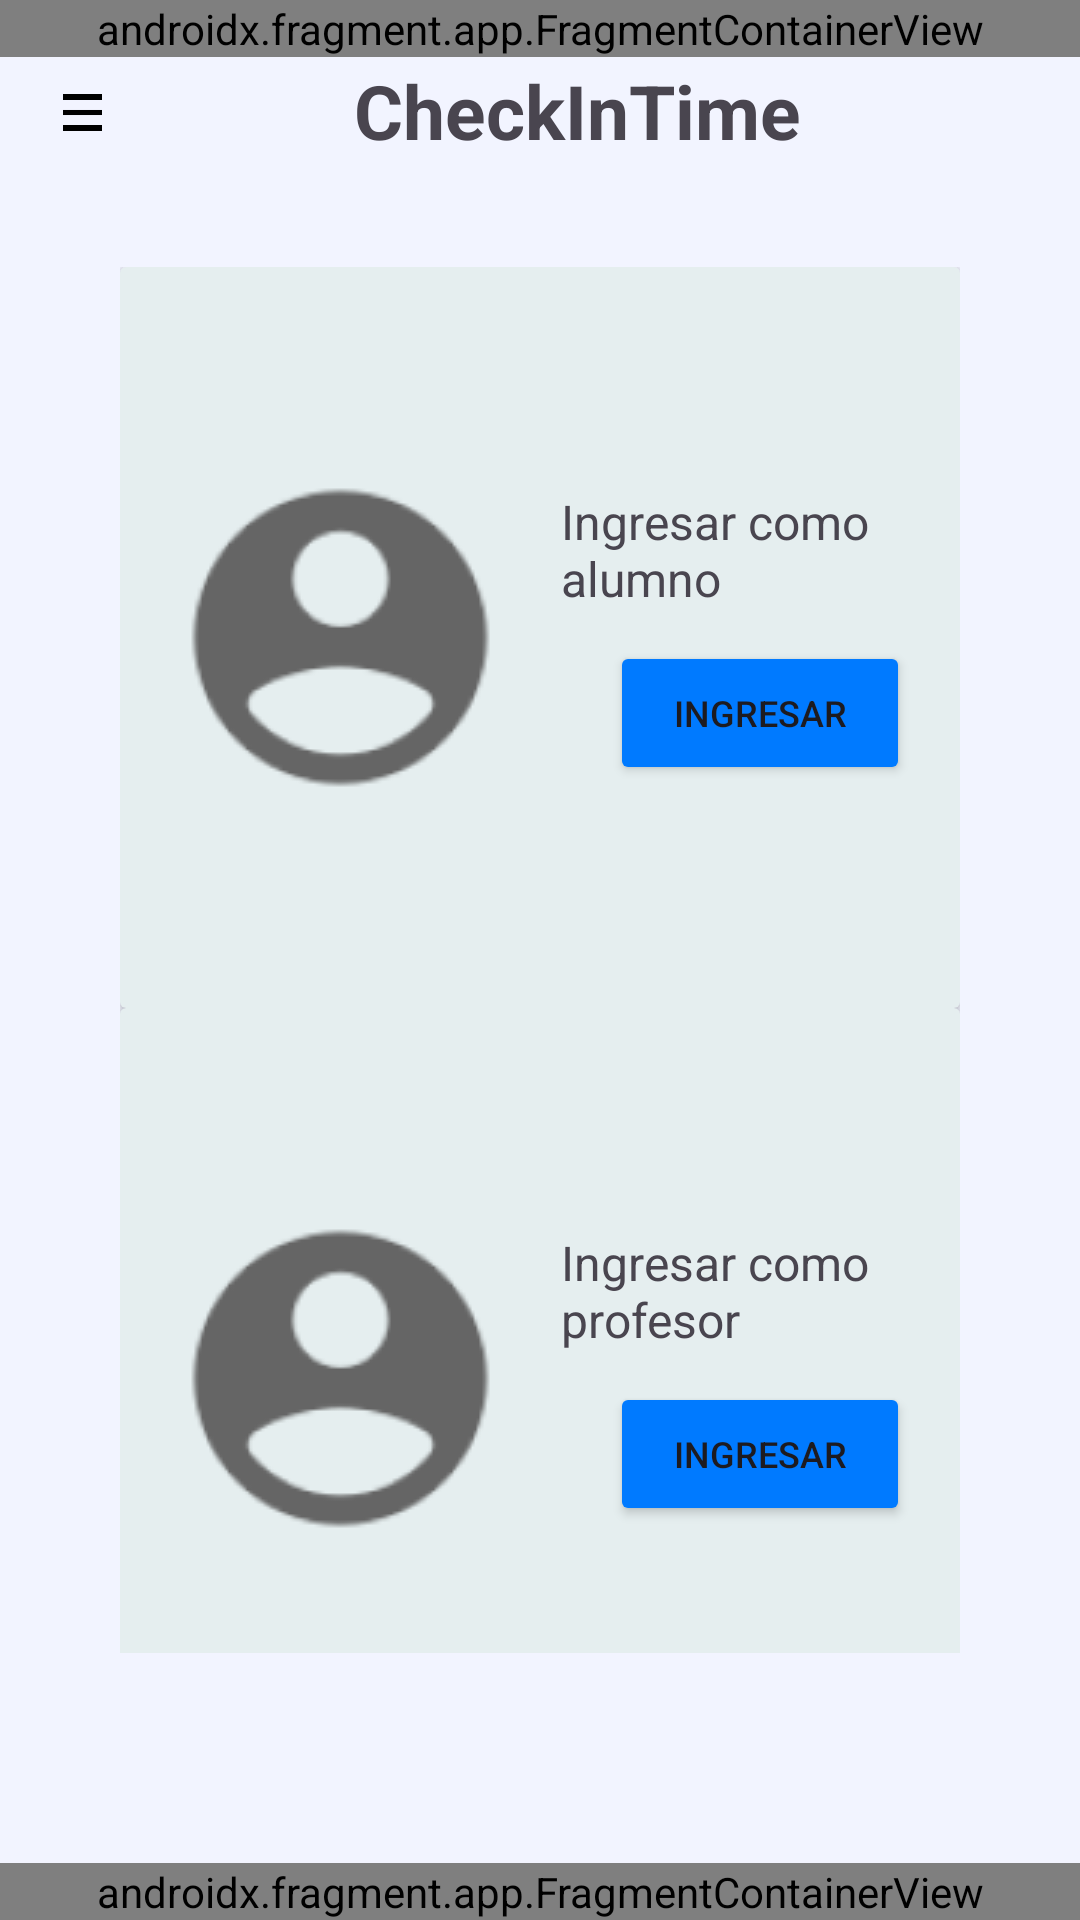

Locate icon controls on the screen. Image size 1080 x 1920, boxes as [left=x1, top=y1, right=x2, bottom=y2].
menu: [left=63, top=94, right=102, bottom=131]
persona: [left=192, top=489, right=489, bottom=786], [left=192, top=1230, right=489, bottom=1527]
